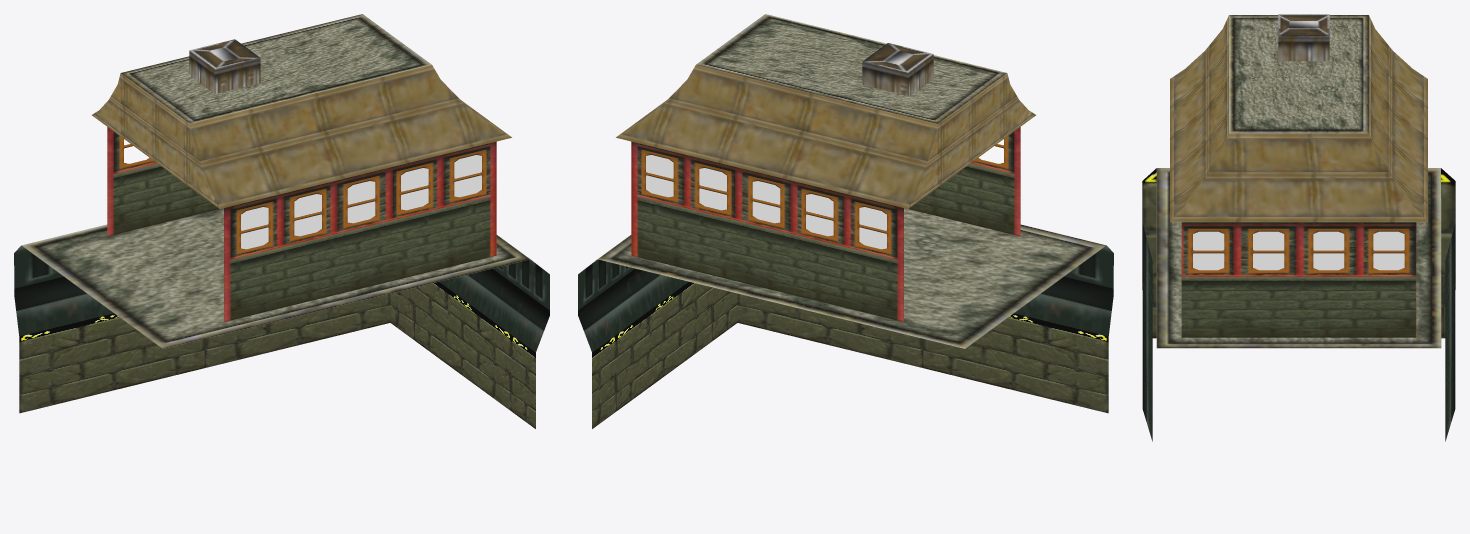
Rendered from l_palacewing.glb.
3 renders of one model, left to right at view 1: azimuth 30°, elevation 25°; view 2: azimuth 150°, elevation 25°; view 3: azimuth 270°, elevation 25°, orthographic.
Visible parts, largest first — view 1: palace_wing, Litwin_palace_wing; view 2: palace_wing, Litwin_palace_wing; view 3: palace_wing, Litwin_palace_wing.
Boxes of the visible parts, x1,y1,x2,y2 form: palace_wing: (14, 14, 549, 428); Litwin_palace_wing: (241, 155, 481, 249); palace_wing: (578, 14, 1113, 428); Litwin_palace_wing: (646, 155, 886, 249); palace_wing: (1142, 14, 1455, 441); Litwin_palace_wing: (1193, 231, 1404, 270).
Bounding box in the file's own units: 30.85 × 29.31 × 21.93.
Materials: 7 (7 with a texture image).
